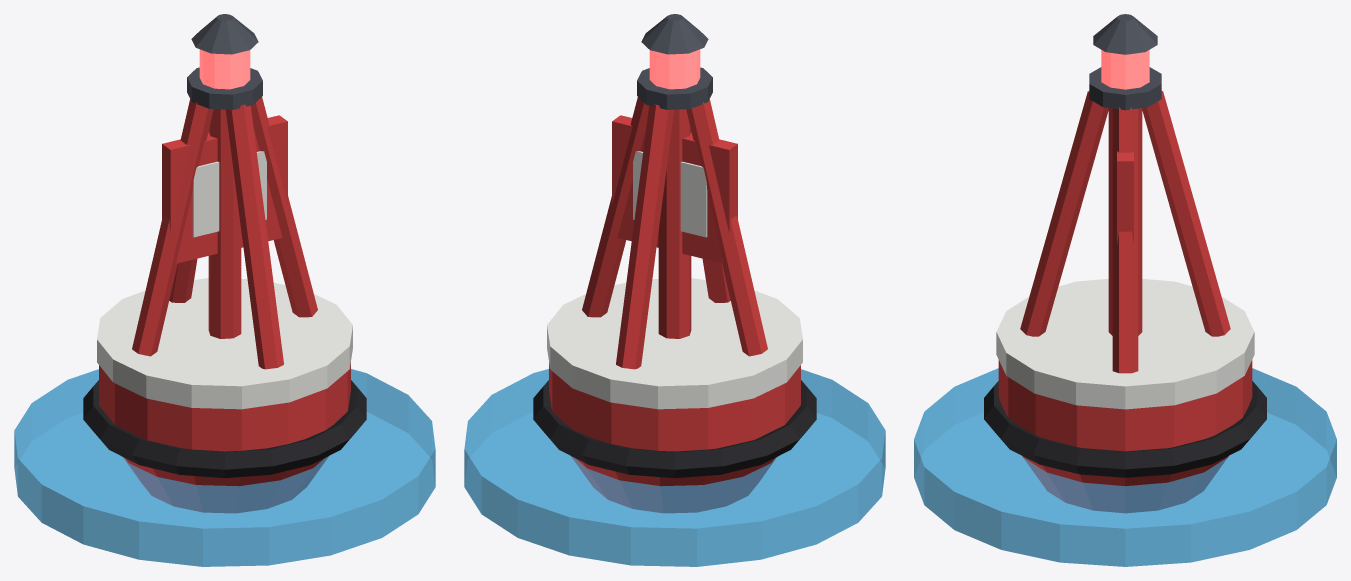
File: NavBuoy.fbx
3 views of the same model, side by side, from view 1: azimuth 30°, elevation 25°; view 2: azimuth 150°, elevation 25°; view 3: azimuth 270°, elevation 25° (orthographic).
Visible parts, largest first — view 1: NavBuoy_Water, NavBuoy_Red, NavBuoy_White, NavBuoy_Rubber, NavBuoy_DarkMetal, NavBuoy_NeonRed; view 2: NavBuoy_Water, NavBuoy_Red, NavBuoy_White, NavBuoy_Rubber, NavBuoy_DarkMetal, NavBuoy_NeonRed; view 3: NavBuoy_Water, NavBuoy_Red, NavBuoy_White, NavBuoy_Rubber, NavBuoy_DarkMetal, NavBuoy_NeonRed.
Part boxes in pixels (<box>): NavBuoy_Water: <box>14,369,435,566</box>; NavBuoy_Red: <box>99,97,350,512</box>; NavBuoy_White: <box>97,151,352,409</box>; NavBuoy_Rubber: <box>83,380,366,478</box>; NavBuoy_DarkMetal: <box>187,14,262,109</box>; NavBuoy_NeonRed: <box>199,49,250,89</box>; NavBuoy_Water: <box>464,369,885,566</box>; NavBuoy_Red: <box>549,97,800,512</box>; NavBuoy_White: <box>547,151,802,409</box>; NavBuoy_Rubber: <box>533,380,816,478</box>; NavBuoy_DarkMetal: <box>637,14,712,109</box>; NavBuoy_NeonRed: <box>649,49,700,89</box>; NavBuoy_Water: <box>914,368,1336,566</box>; NavBuoy_Red: <box>998,91,1252,512</box>; NavBuoy_White: <box>996,279,1254,409</box>; NavBuoy_Rubber: <box>984,381,1266,477</box>; NavBuoy_DarkMetal: <box>1089,14,1161,110</box>; NavBuoy_NeonRed: <box>1101,50,1149,89</box>.
Bounding box in the file's own units: 10 × 12 × 10.
